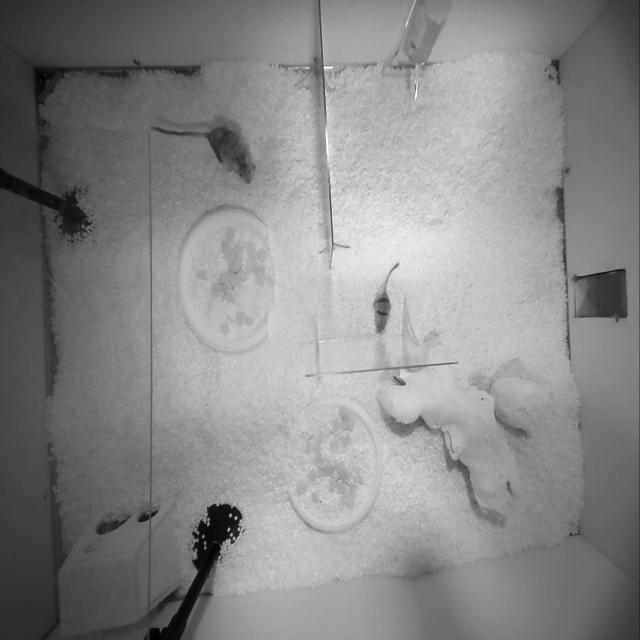adult_back: (152, 126, 254, 183)
pup_h_stripe: (372, 267, 399, 337)
